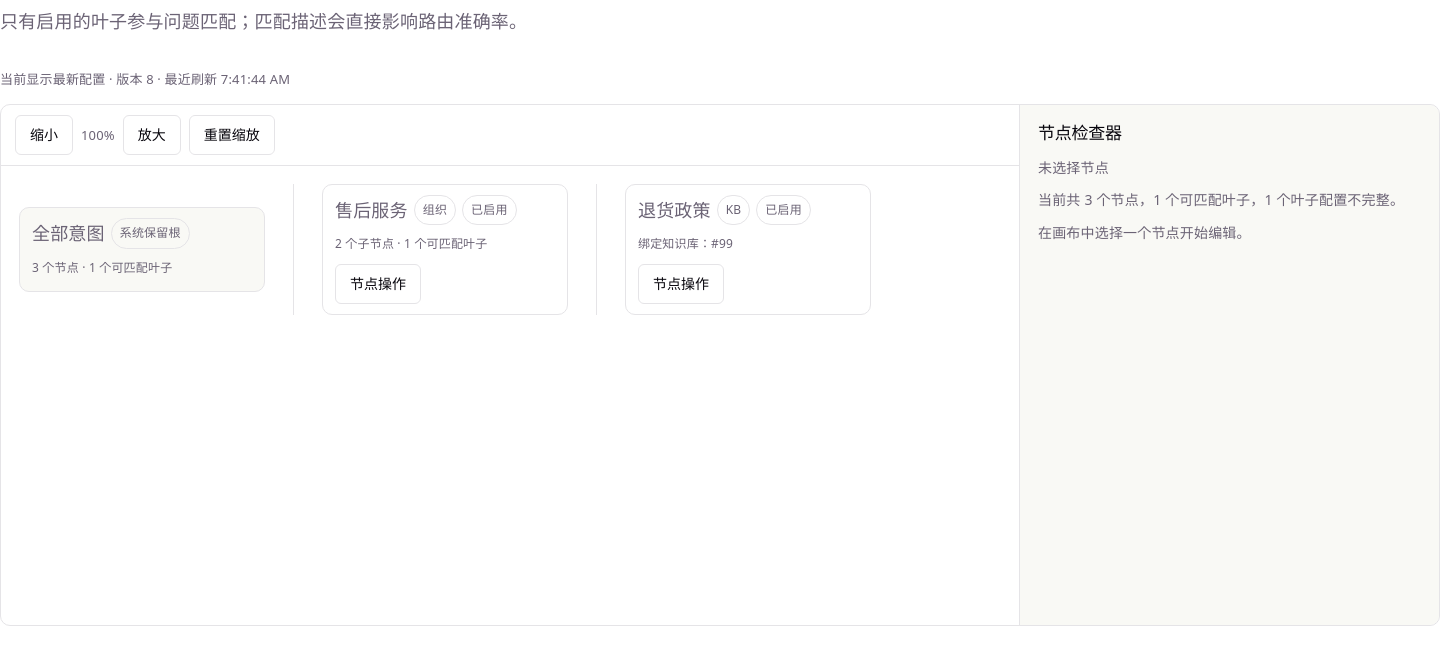
Test: 意图树 C — 画布与检查器 › 绑定的知识库已失效时给出阻塞提示而不是静默换绑
The width and height of the screenshot is (1440, 669).
Click the list item "退货政策 KB 已启用 绑定知识库：#99 节点操作": (748,250) [625,184,871,315]
(page scrolled)
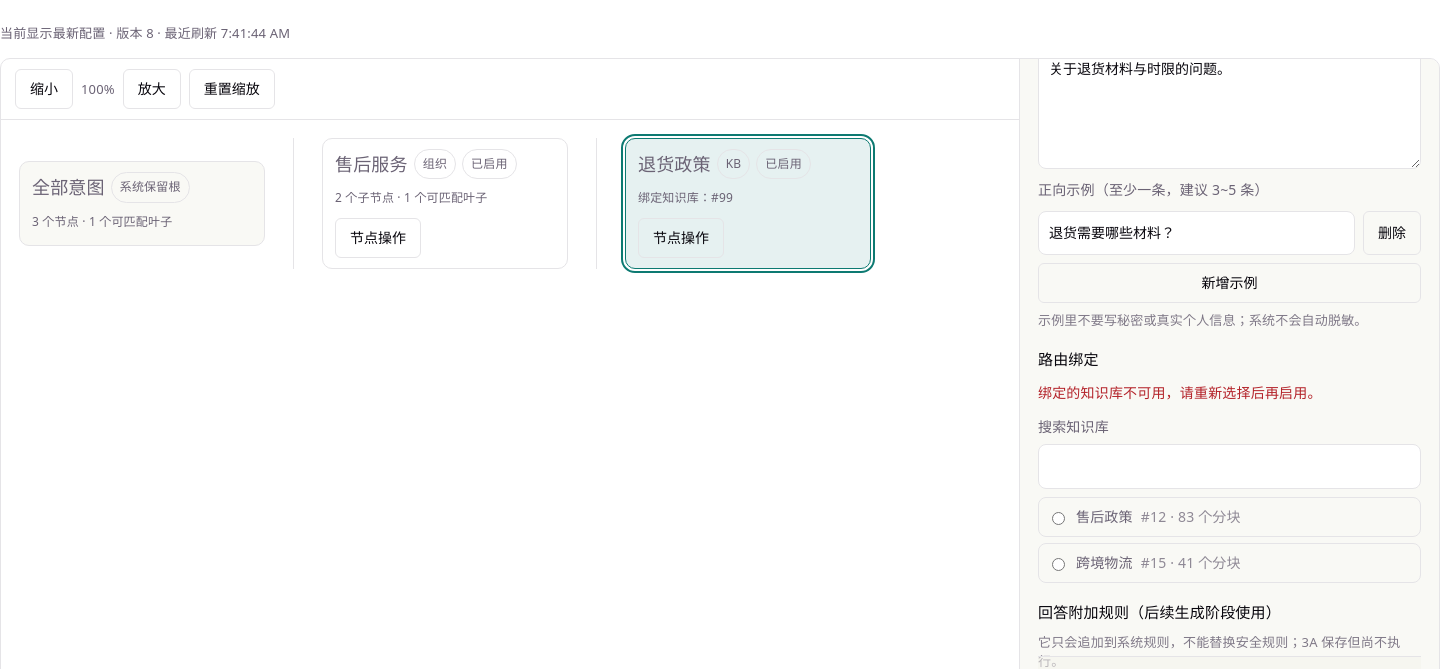
Expected: the text "绑定的知识库不可用，请重新选择后再启用。" is shown, [1038,383,1322,402]
